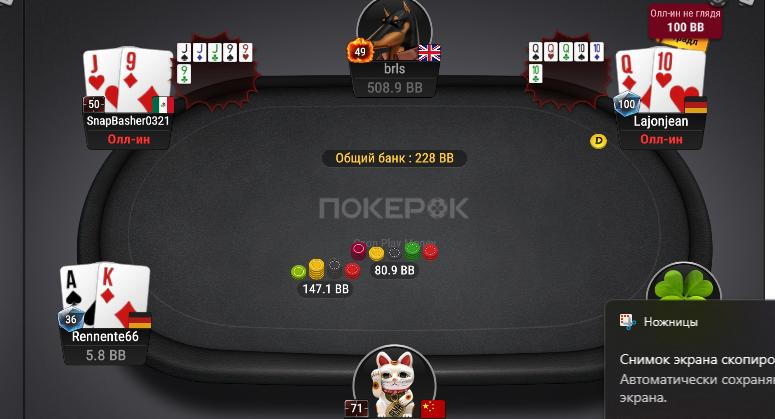10h: (652, 46, 704, 114)
9d: (119, 44, 173, 116)
As: (58, 262, 101, 329)
Jh: (83, 50, 121, 113)
Kd: (97, 261, 150, 331)
Qd: (616, 47, 654, 112)
